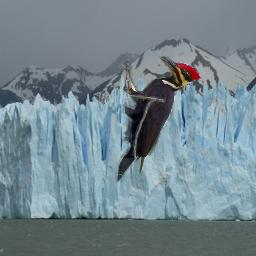Woodpecker: (115, 56, 202, 182)
